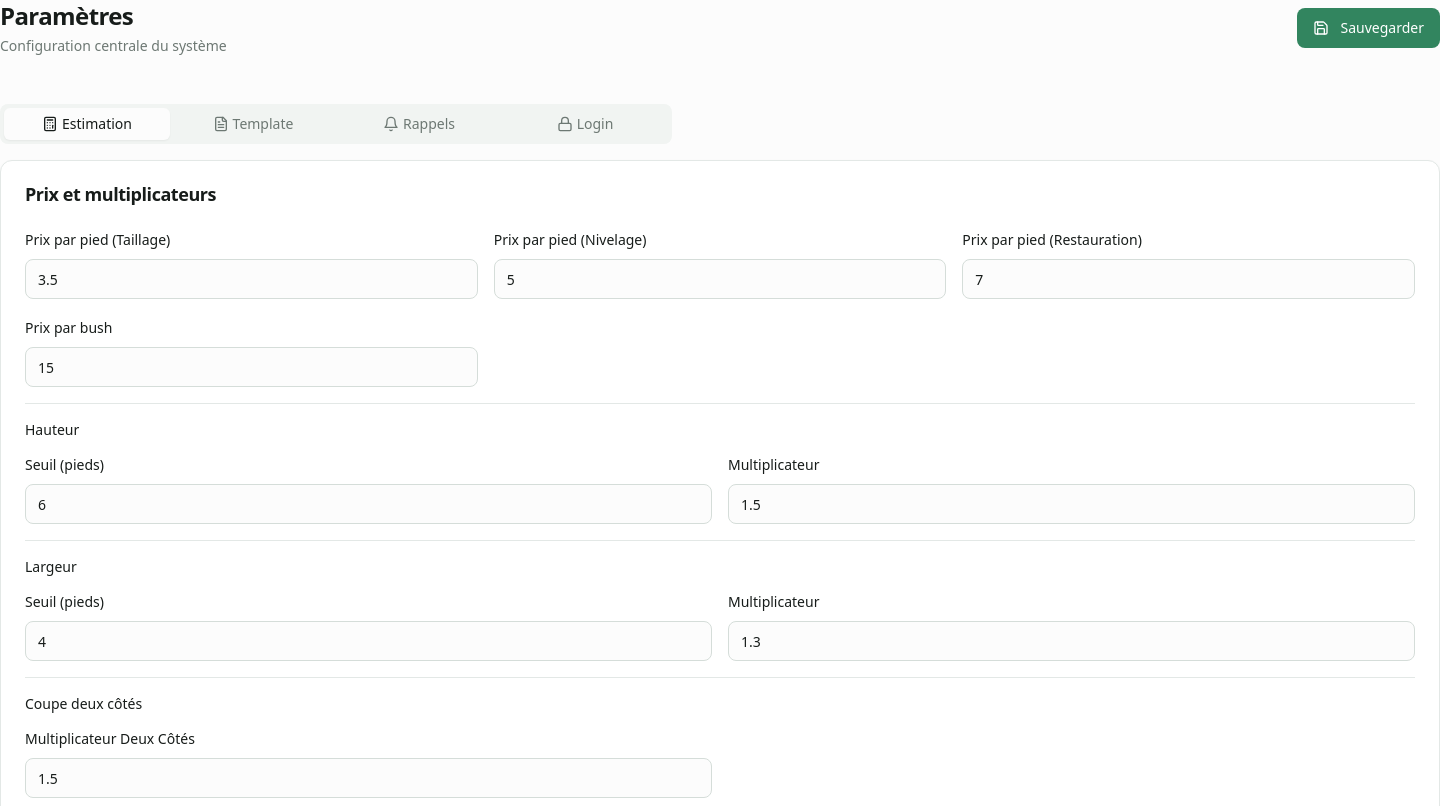
Test: Settings — show_taxes toggle › renders the show_taxes toggle in the Template tab
The width and height of the screenshot is (1440, 806).
Click the tab "Template": click(253, 124) [170,108,336,140]
(page scrolled)
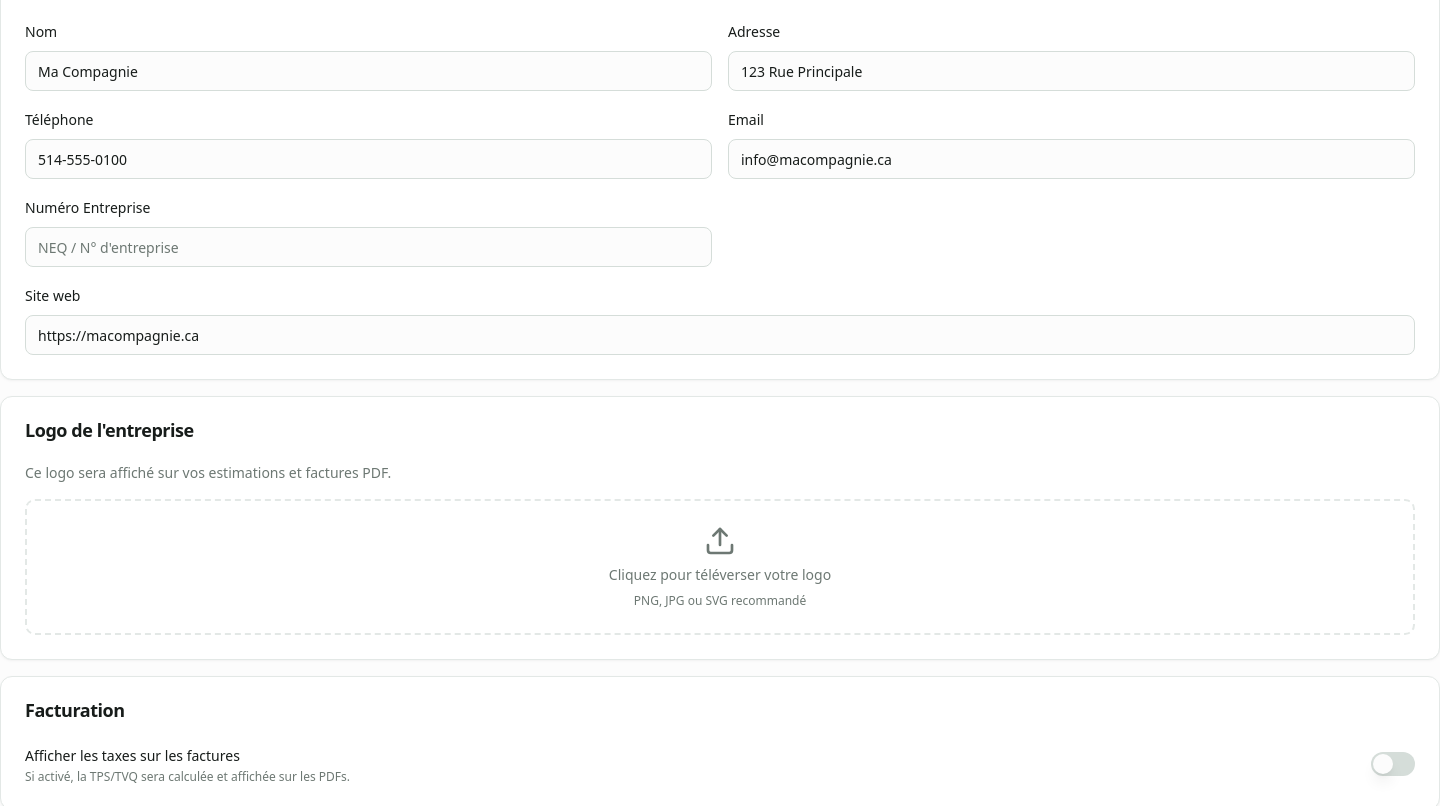
Check: the text "Afficher les taxes sur les factures" is shown, box [25,746,240,765]
Check: the switch is shown, box [1371,752,1415,776]
